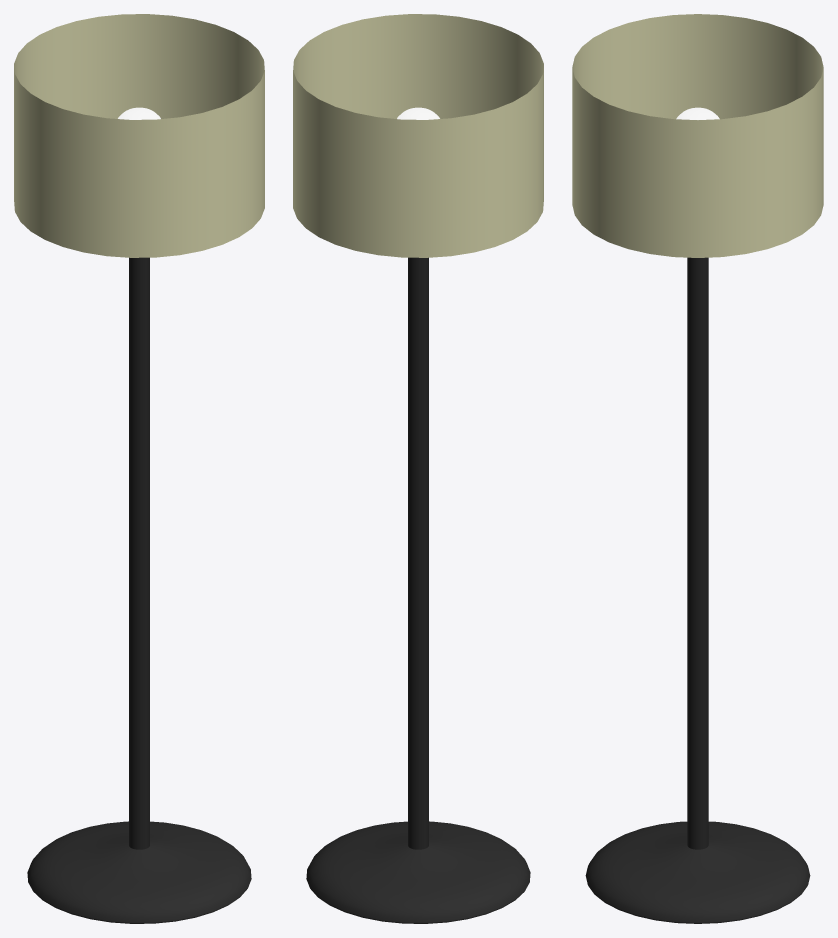
Rendered from lamp01.glb.
3 views of the same model, side by side, from view 1: azimuth 30°, elevation 25°; view 2: azimuth 150°, elevation 25°; view 3: azimuth 270°, elevation 25° (orthographic).
Parts seen in each view (by area): view 1: Lamp 01, 실린더; view 2: Lamp 01, 실린더; view 3: Lamp 01, 실린더.
Part boxes in pixels (bbox=[...]): Lamp 01: bbox=[14, 14, 264, 257]; 실린더: bbox=[27, 257, 251, 923]; Lamp 01: bbox=[293, 14, 543, 257]; 실린더: bbox=[306, 257, 530, 923]; Lamp 01: bbox=[572, 14, 823, 257]; 실린더: bbox=[585, 257, 810, 923].
Bounding box in the file's own units: 0.3008 × 1.07 × 0.3008.
